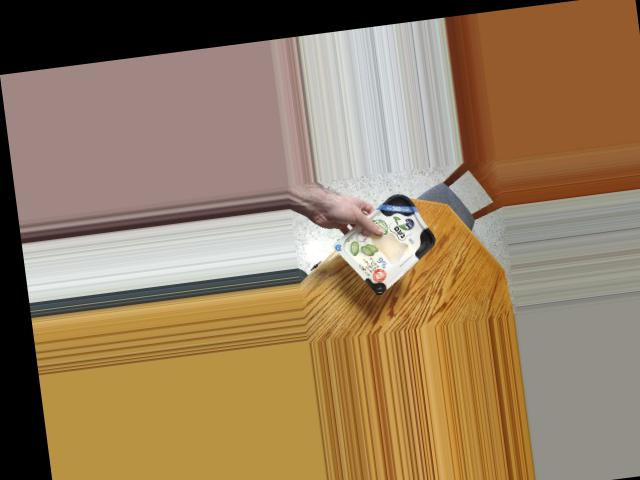cheese: (343, 185, 436, 291)
